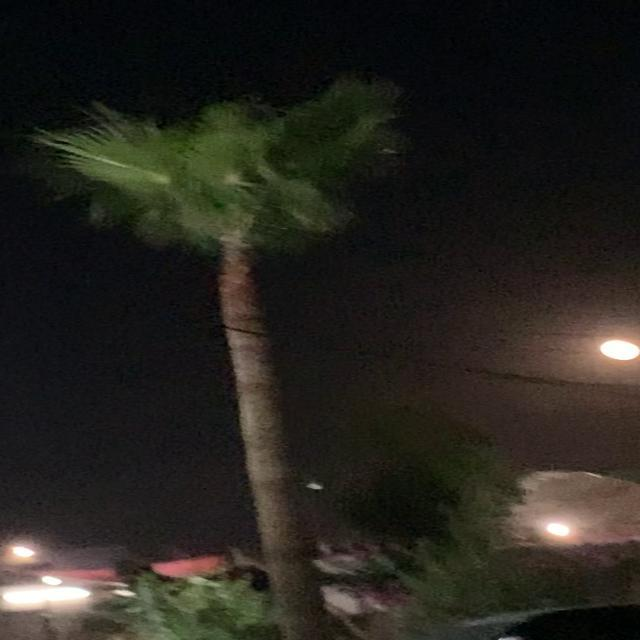moon: (582, 340, 640, 368)
